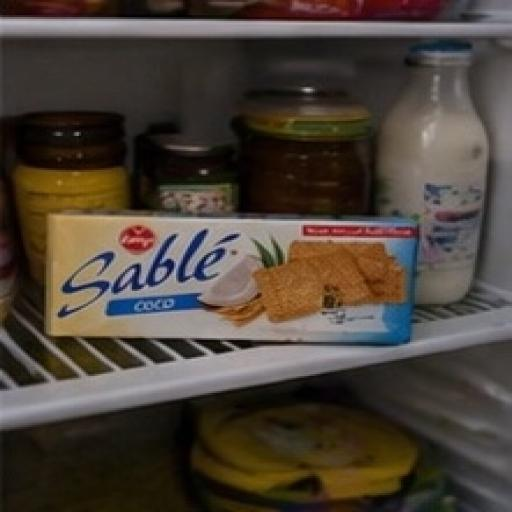sabl: (26, 165, 484, 398)
